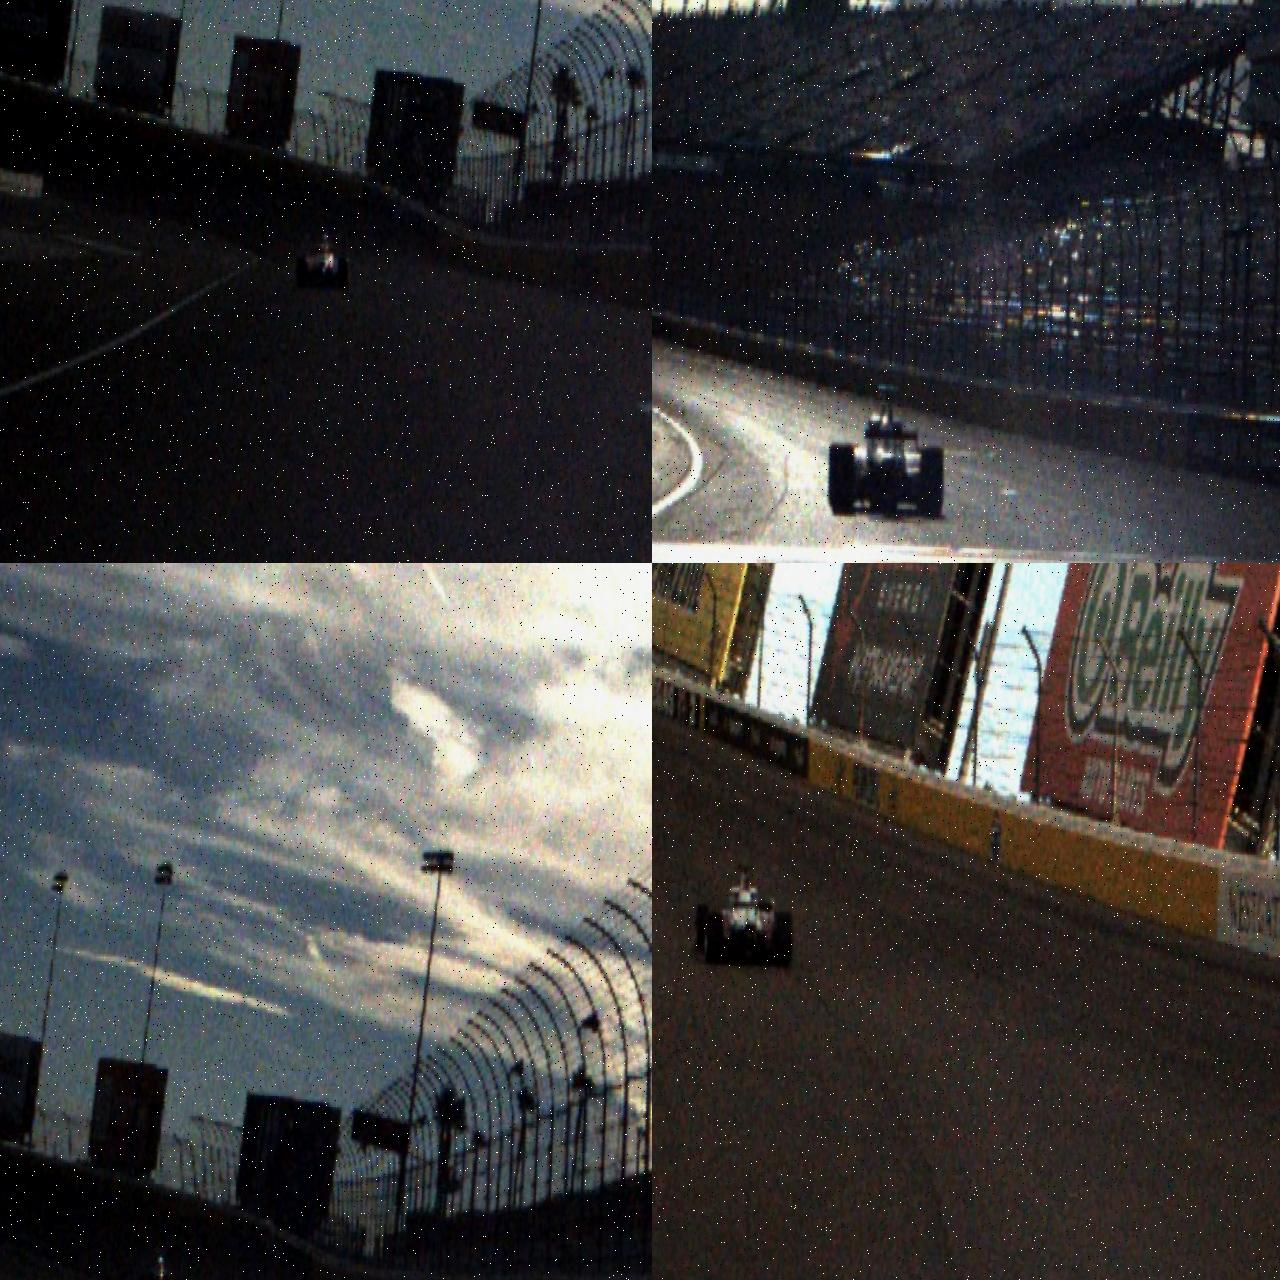AV: (826, 382, 947, 520), (693, 862, 795, 967), (295, 224, 350, 292), (117, 1246, 195, 1280)
Wheel: (919, 445, 945, 519), (831, 444, 855, 516), (772, 911, 792, 967), (703, 912, 722, 965), (694, 903, 709, 953), (295, 256, 308, 290), (336, 257, 348, 291)
